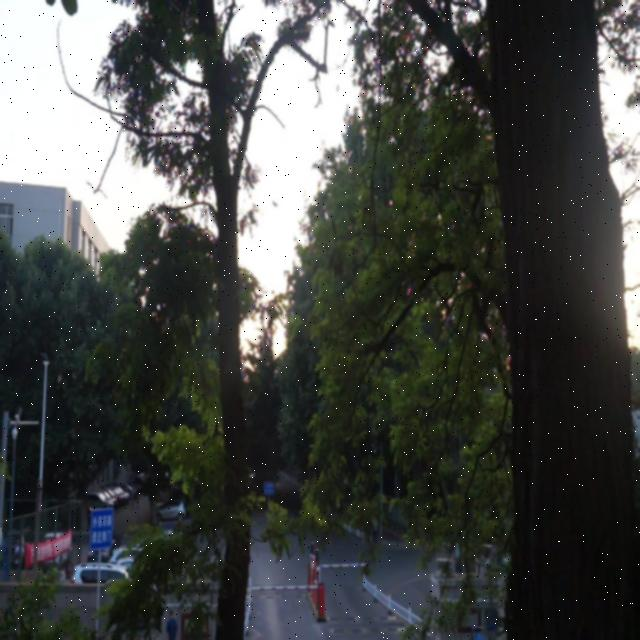UAV: (272, 200, 278, 207)
